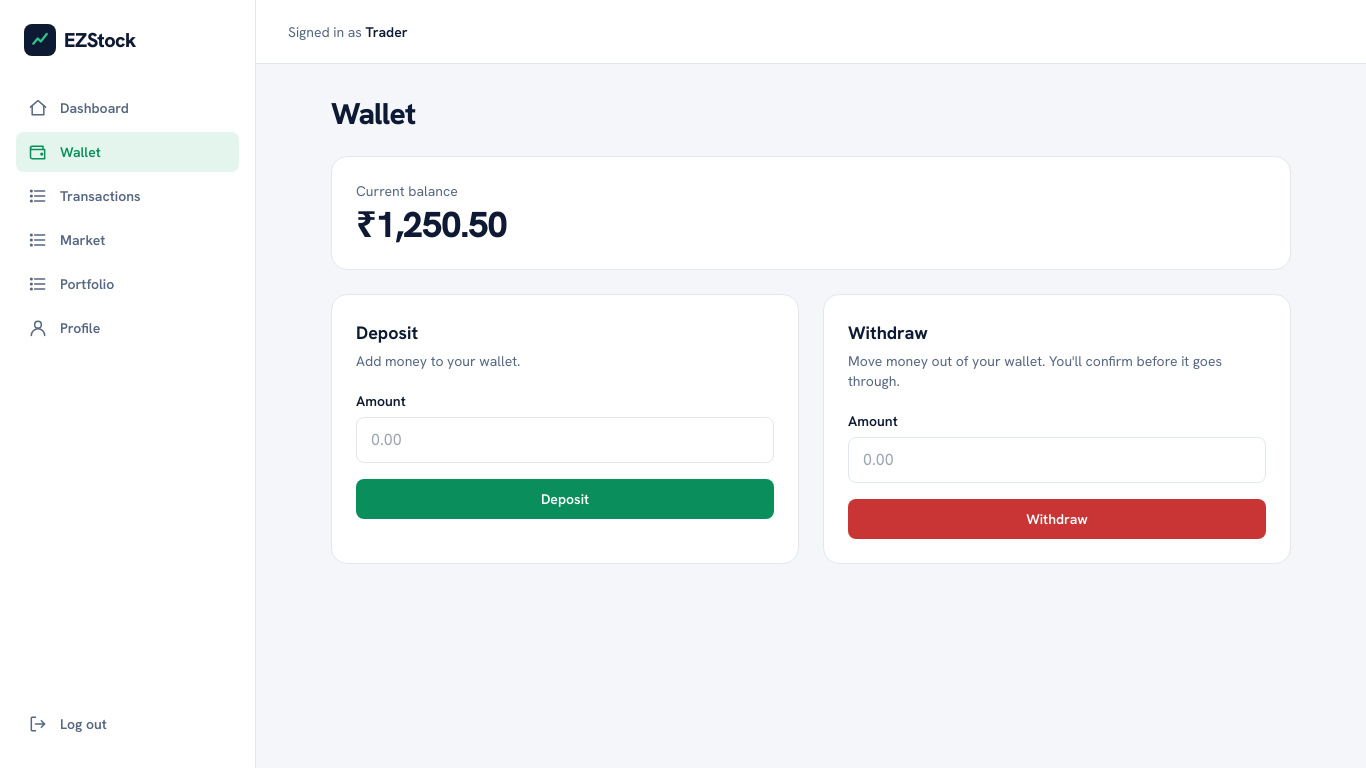
Scenario: wallet page › deposits and refreshes the wallet and transactions
Expected: the text "₹1,250.50" is shown, [356,201,507,248]
In the field labelled "Amount" below "Add money to your wallet.": x=565, y=440 [356,417,774,463], type "1000"
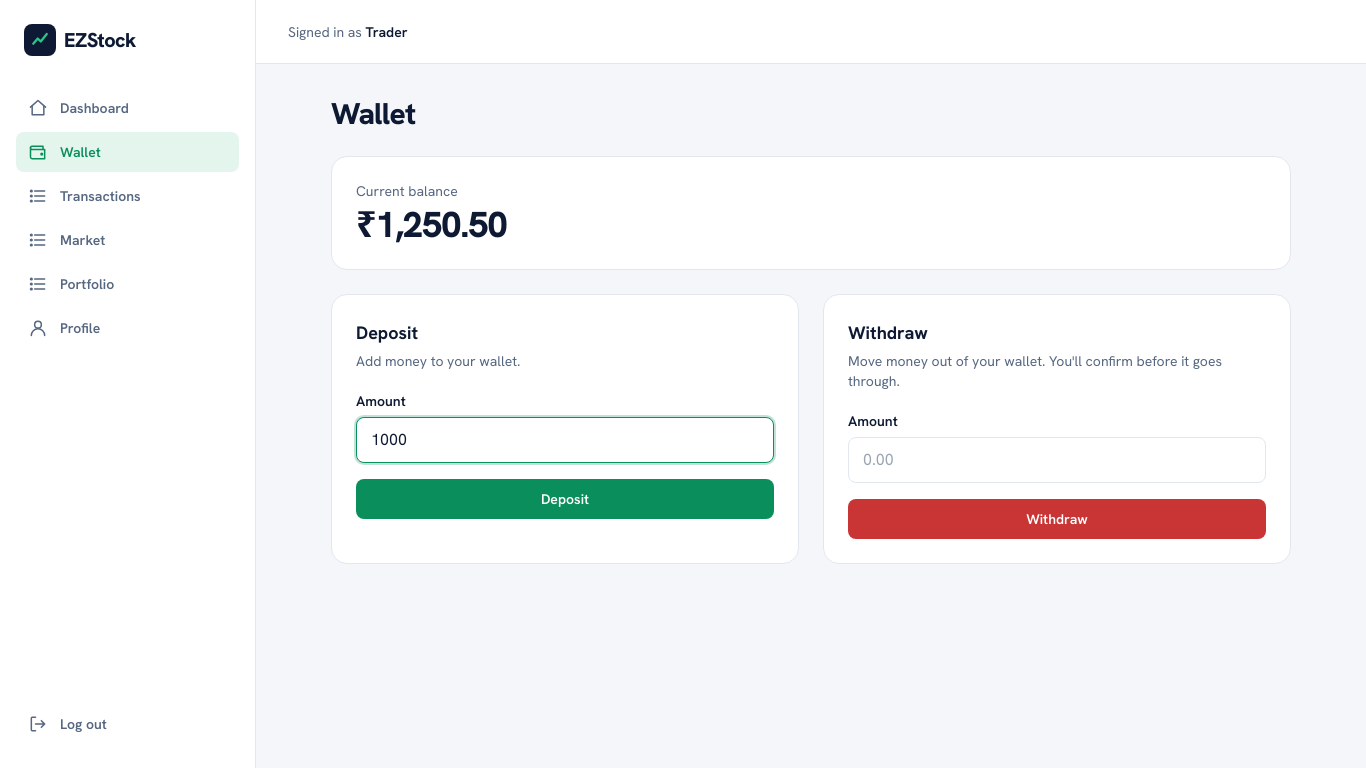
Click the button "Deposit": x=565, y=499 [356,479,774,519]
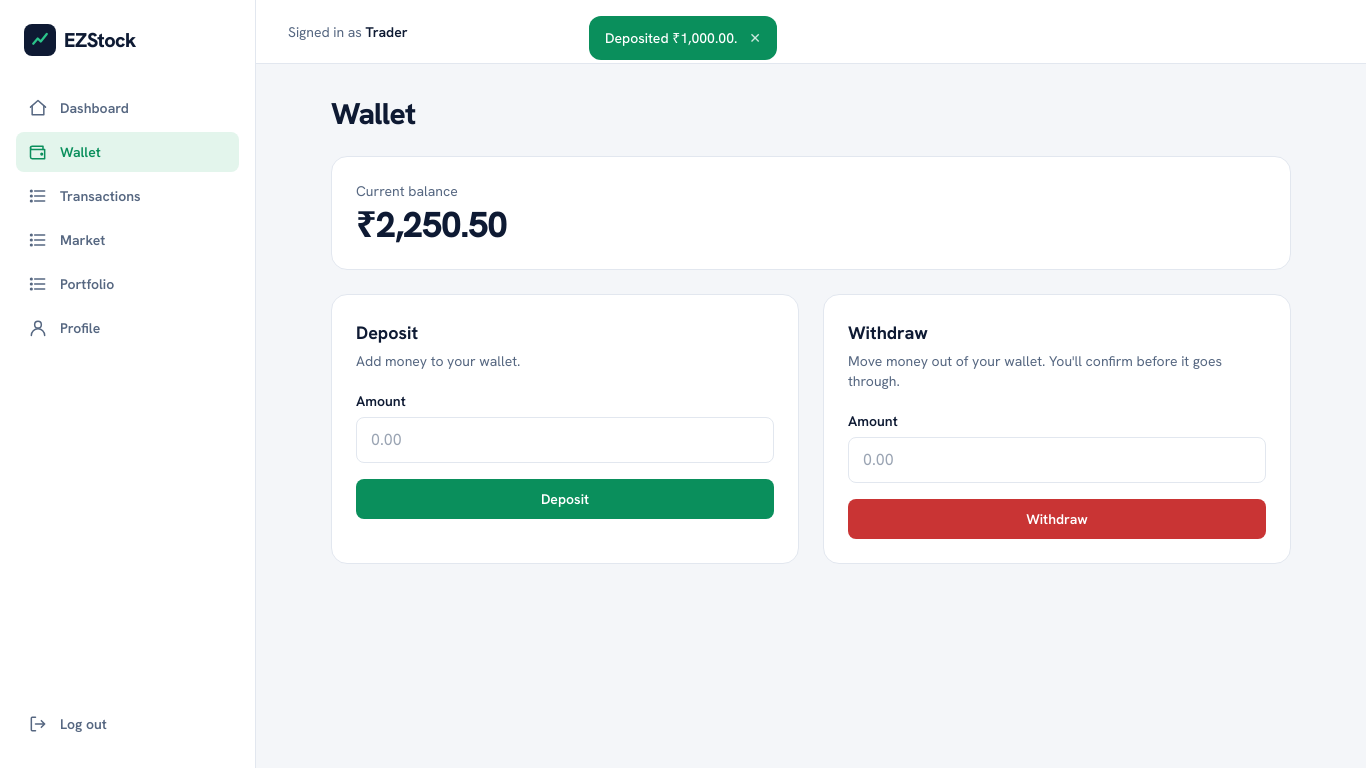
Now the text "Deposited ₹1,000.00." is shown, box [605,28,737,48]
Now the text with test id "balance" shows "2,250.50", box [356,201,507,248]
